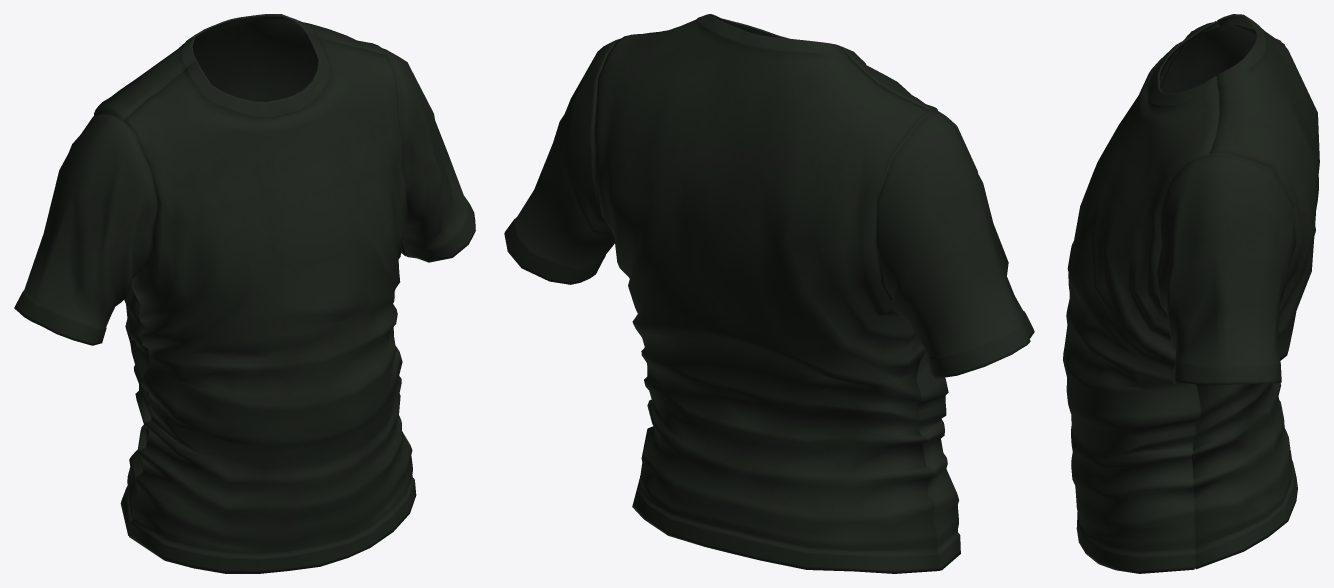
File: T-shirt-male-obj.obj
The picture shows the model from 3 angles, left to right: view 1: azimuth 30°, elevation 25°; view 2: azimuth 150°, elevation 25°; view 3: azimuth 270°, elevation 25°; orthographic projection. The views are drawn at different scales.
Visible parts, largest first — view 1: T_shirt; view 2: T_shirt; view 3: T_shirt.
Part boxes in pixels (<box>): T_shirt: <box>14,14,475,573</box>; T_shirt: <box>504,14,1034,573</box>; T_shirt: <box>1063,14,1319,573</box>.
Size of the model in its own units: 17.39 by 17.87 by 8.43.
